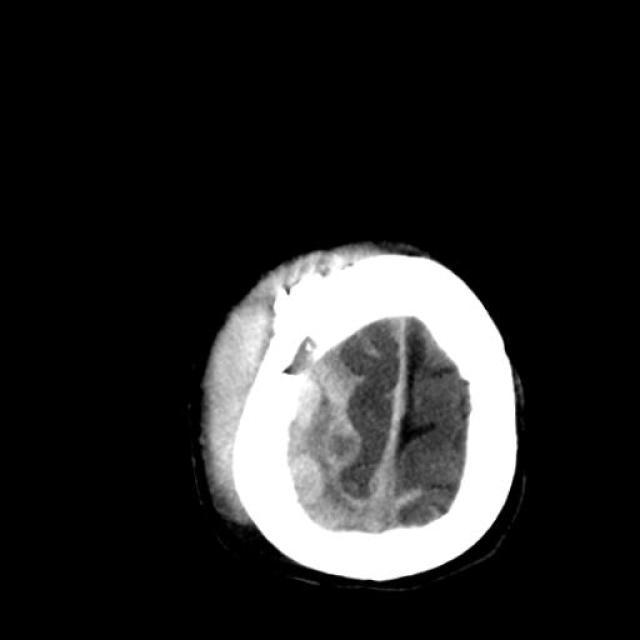Subdural: (361, 308, 418, 556)
